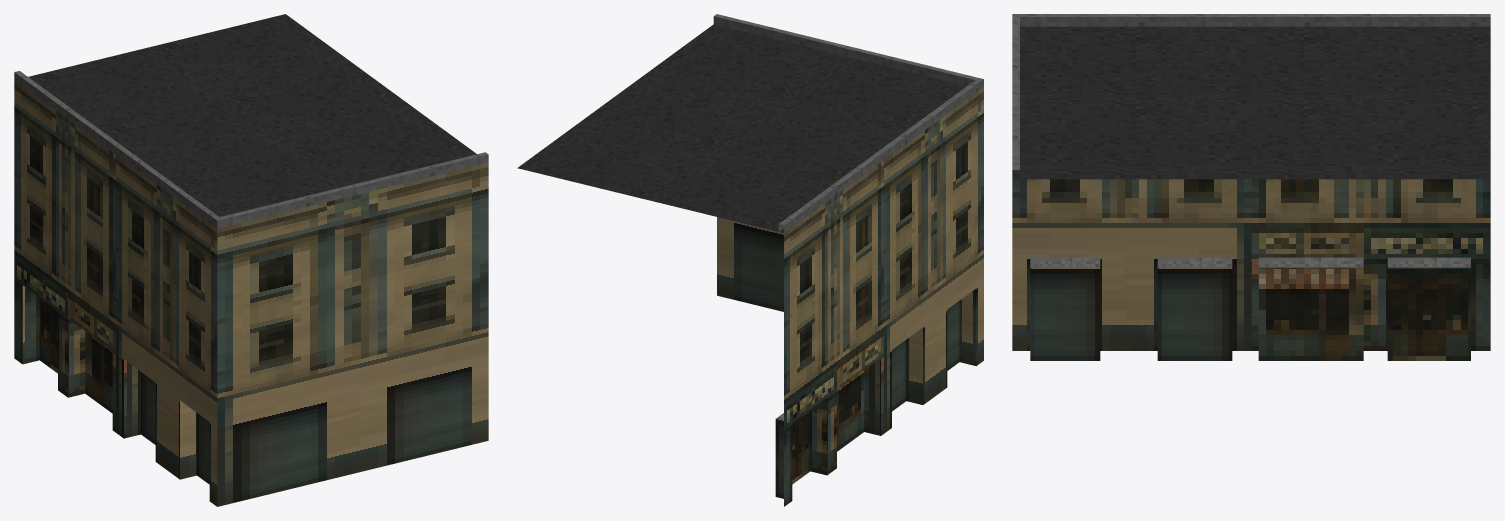
Rendered from env_bld_mixeduse_normal.glb.
The picture shows the model from 3 angles, left to right: view 1: azimuth 30°, elevation 25°; view 2: azimuth 150°, elevation 25°; view 3: azimuth 270°, elevation 25°; orthographic projection. The views are drawn at different scales.
Visible parts, largest first — view 1: env_bld_mixeduse_normal; view 2: env_bld_mixeduse_normal; view 3: env_bld_mixeduse_normal.
Boxes of the visible parts, box(x1,y1,x2,y2) form: env_bld_mixeduse_normal: box(14, 14, 488, 506); env_bld_mixeduse_normal: box(517, 14, 983, 506); env_bld_mixeduse_normal: box(1012, 14, 1490, 360).
Bounding box in the file's own units: 0.0175 × 0.0177 × 0.0227.
Materials: 3 (3 with a texture image).
